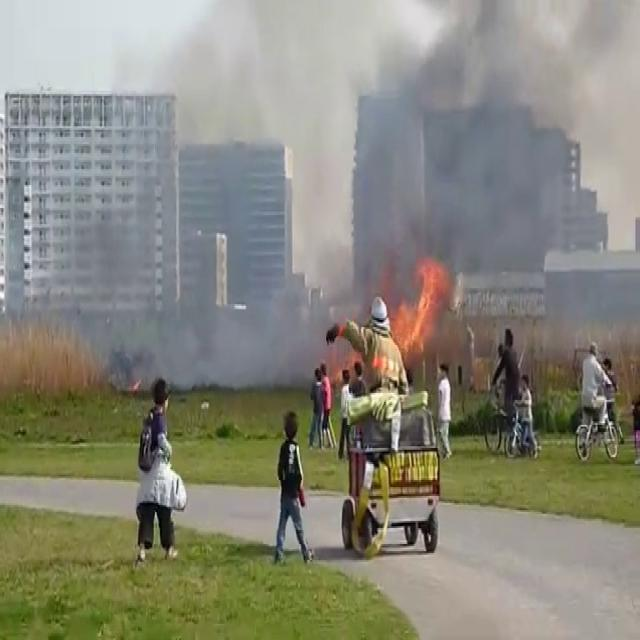Fire: (393, 250, 455, 358)
Smoke: (320, 0, 640, 322)
